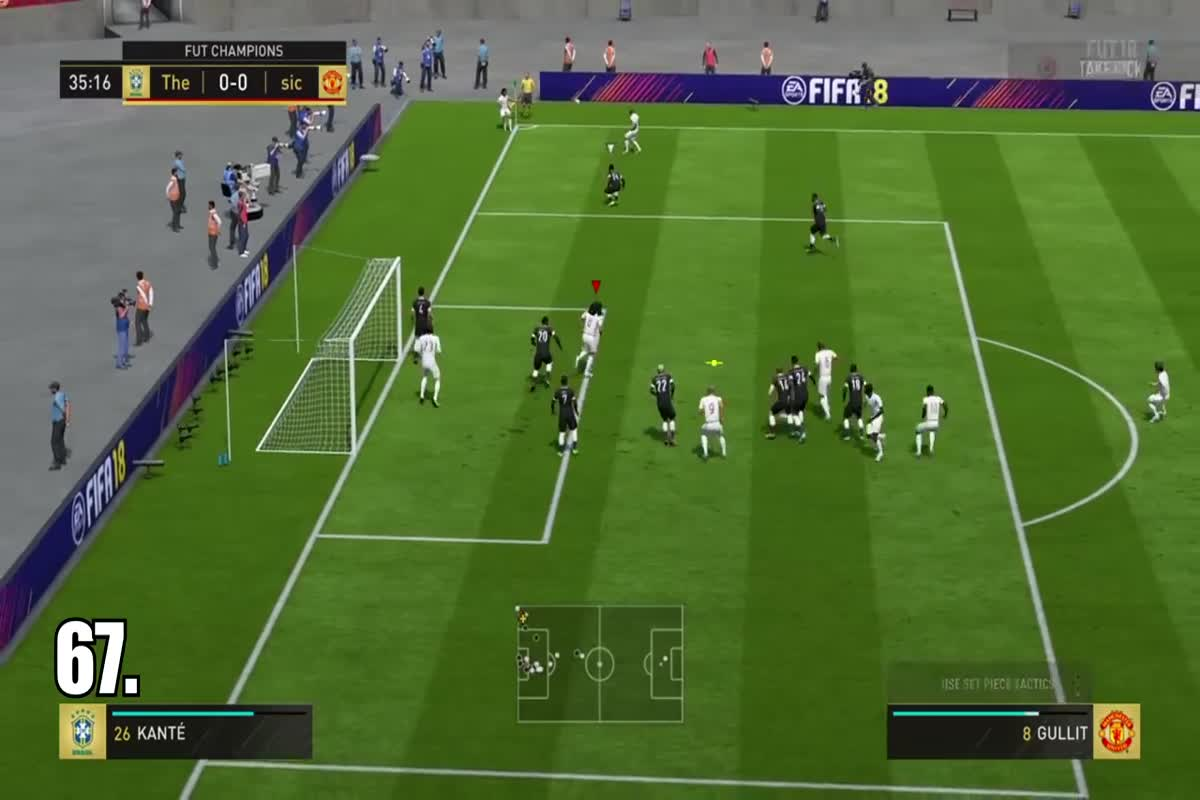ball: (569, 96, 588, 109)
